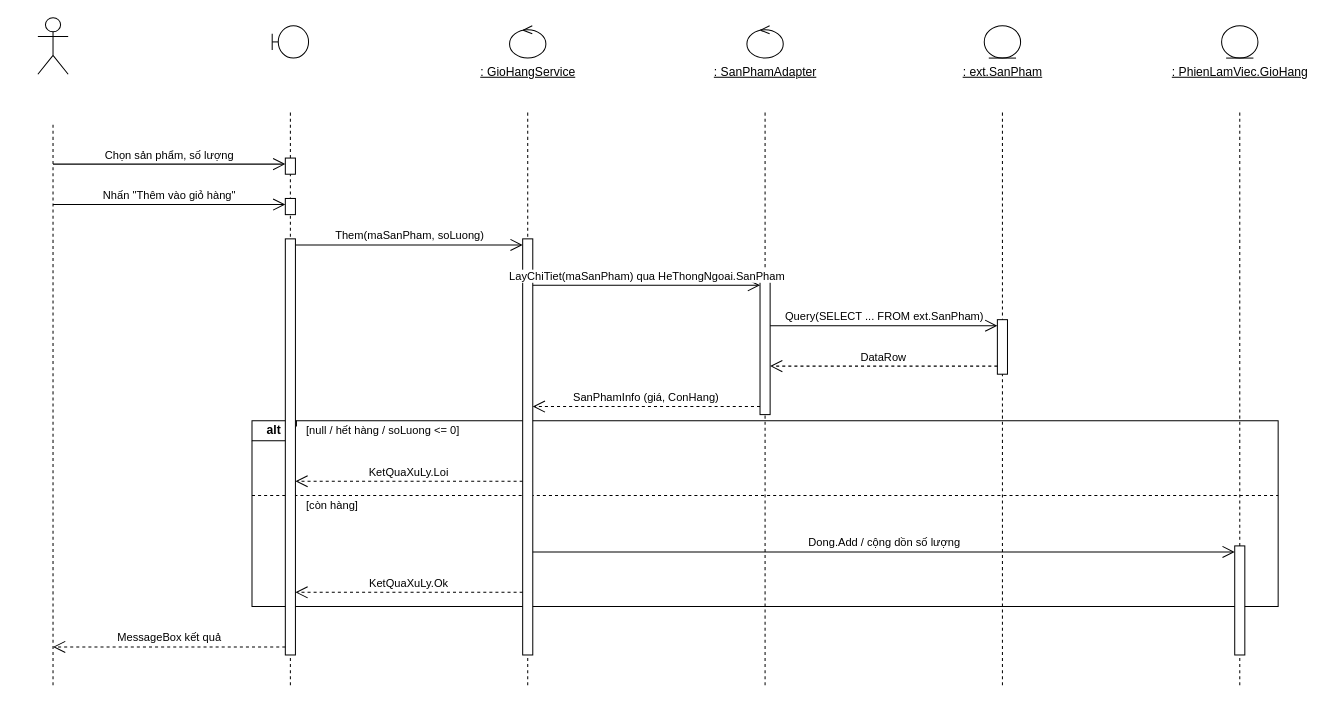
Image size: 1325x706. Some labels were removed from this diagram. The centre of each missing label's shape, as x and y in pixels:
": FrmSanPham" goes at (x=290, y=41).
": Khách hàng" goes at (x=52, y=45).
